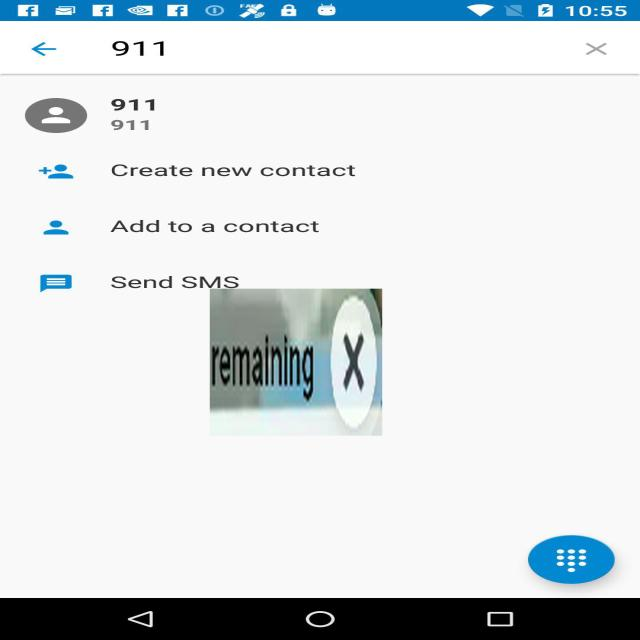misdirection: (210, 288, 382, 436)
